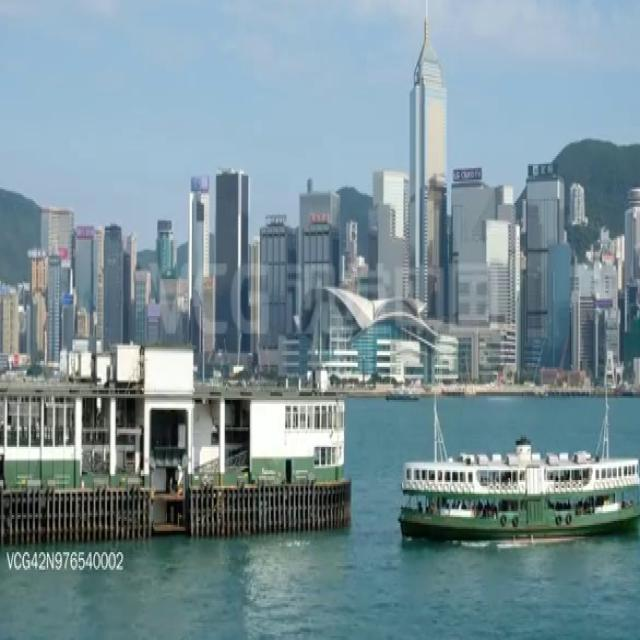passenger ship: (397, 390, 640, 542)
